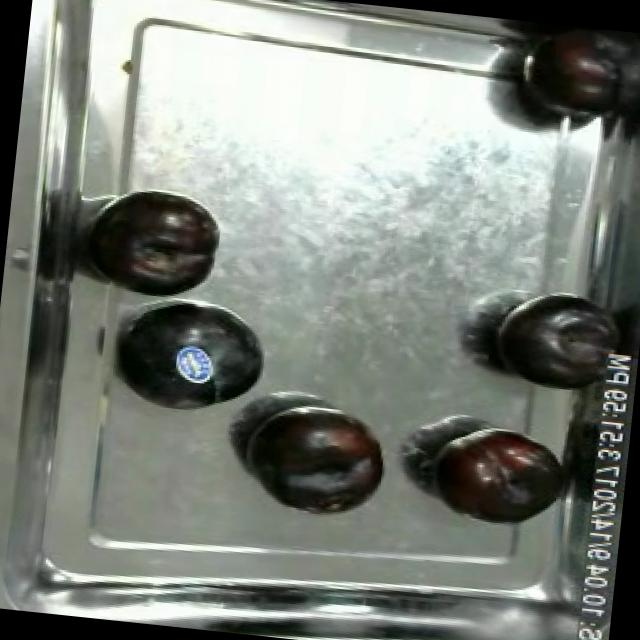Fruit: (108, 287, 280, 425), (477, 275, 640, 406), (236, 397, 395, 516), (419, 414, 575, 535), (88, 184, 231, 306), (520, 20, 640, 140)
